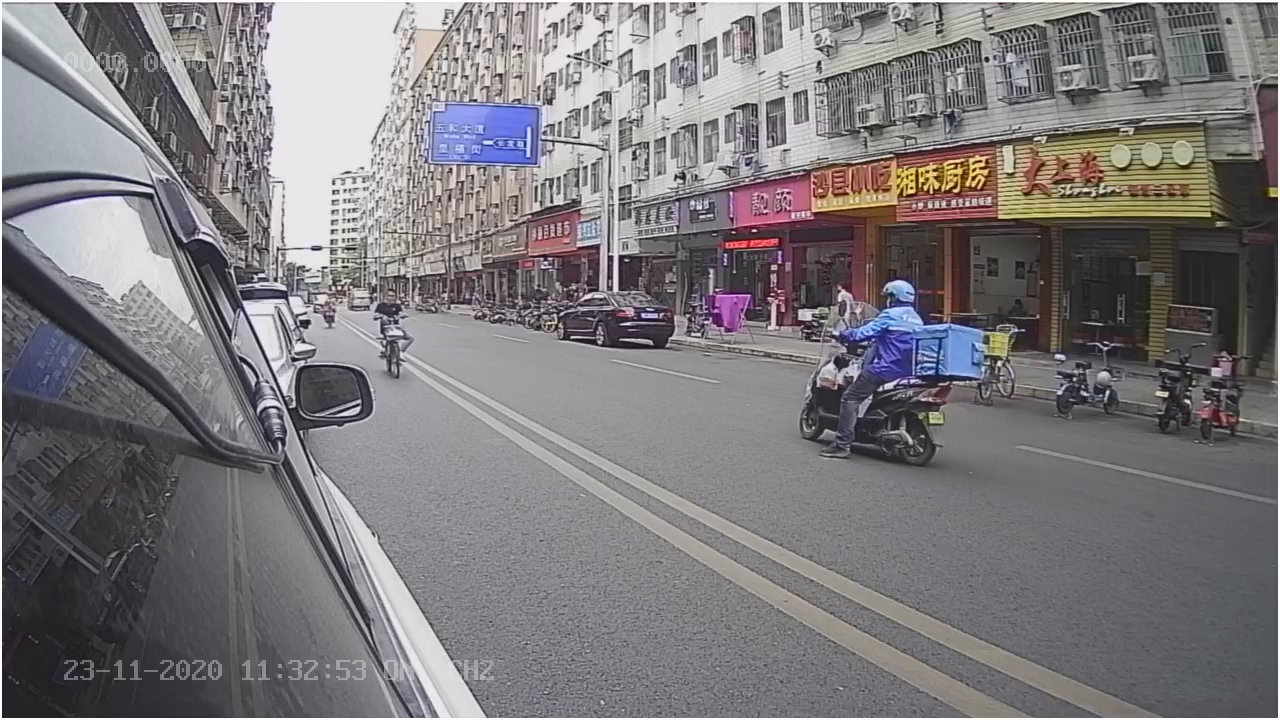person: (847, 270, 915, 375)
